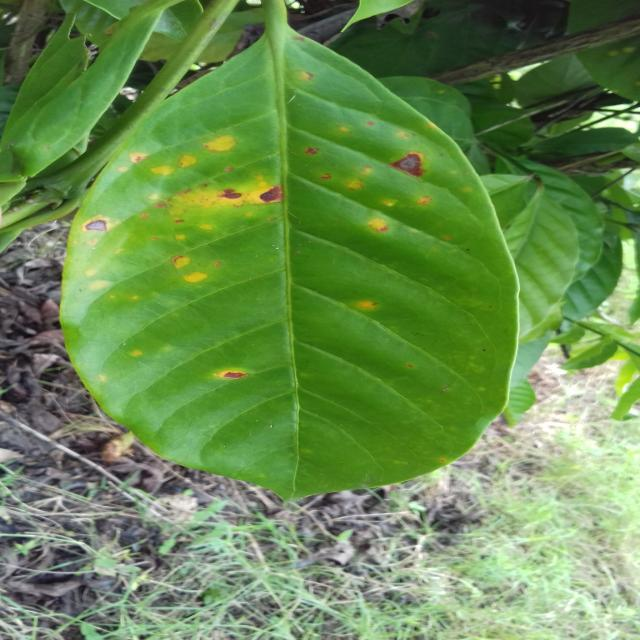Enfermedad-Roya: (59, 0, 519, 502)
